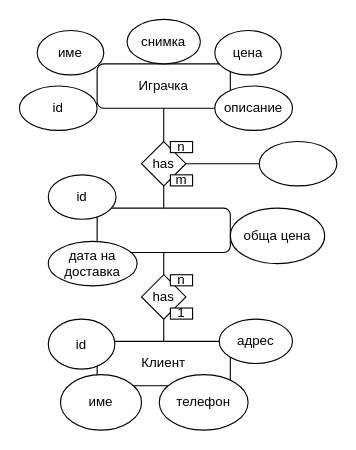
Some shapes in this 356 by 450 pixel diagram are drawn without their labels. The centre of each missing label's shape, as x and y in pixels:
количество: (297,163)
Поръчка: (163,230)
